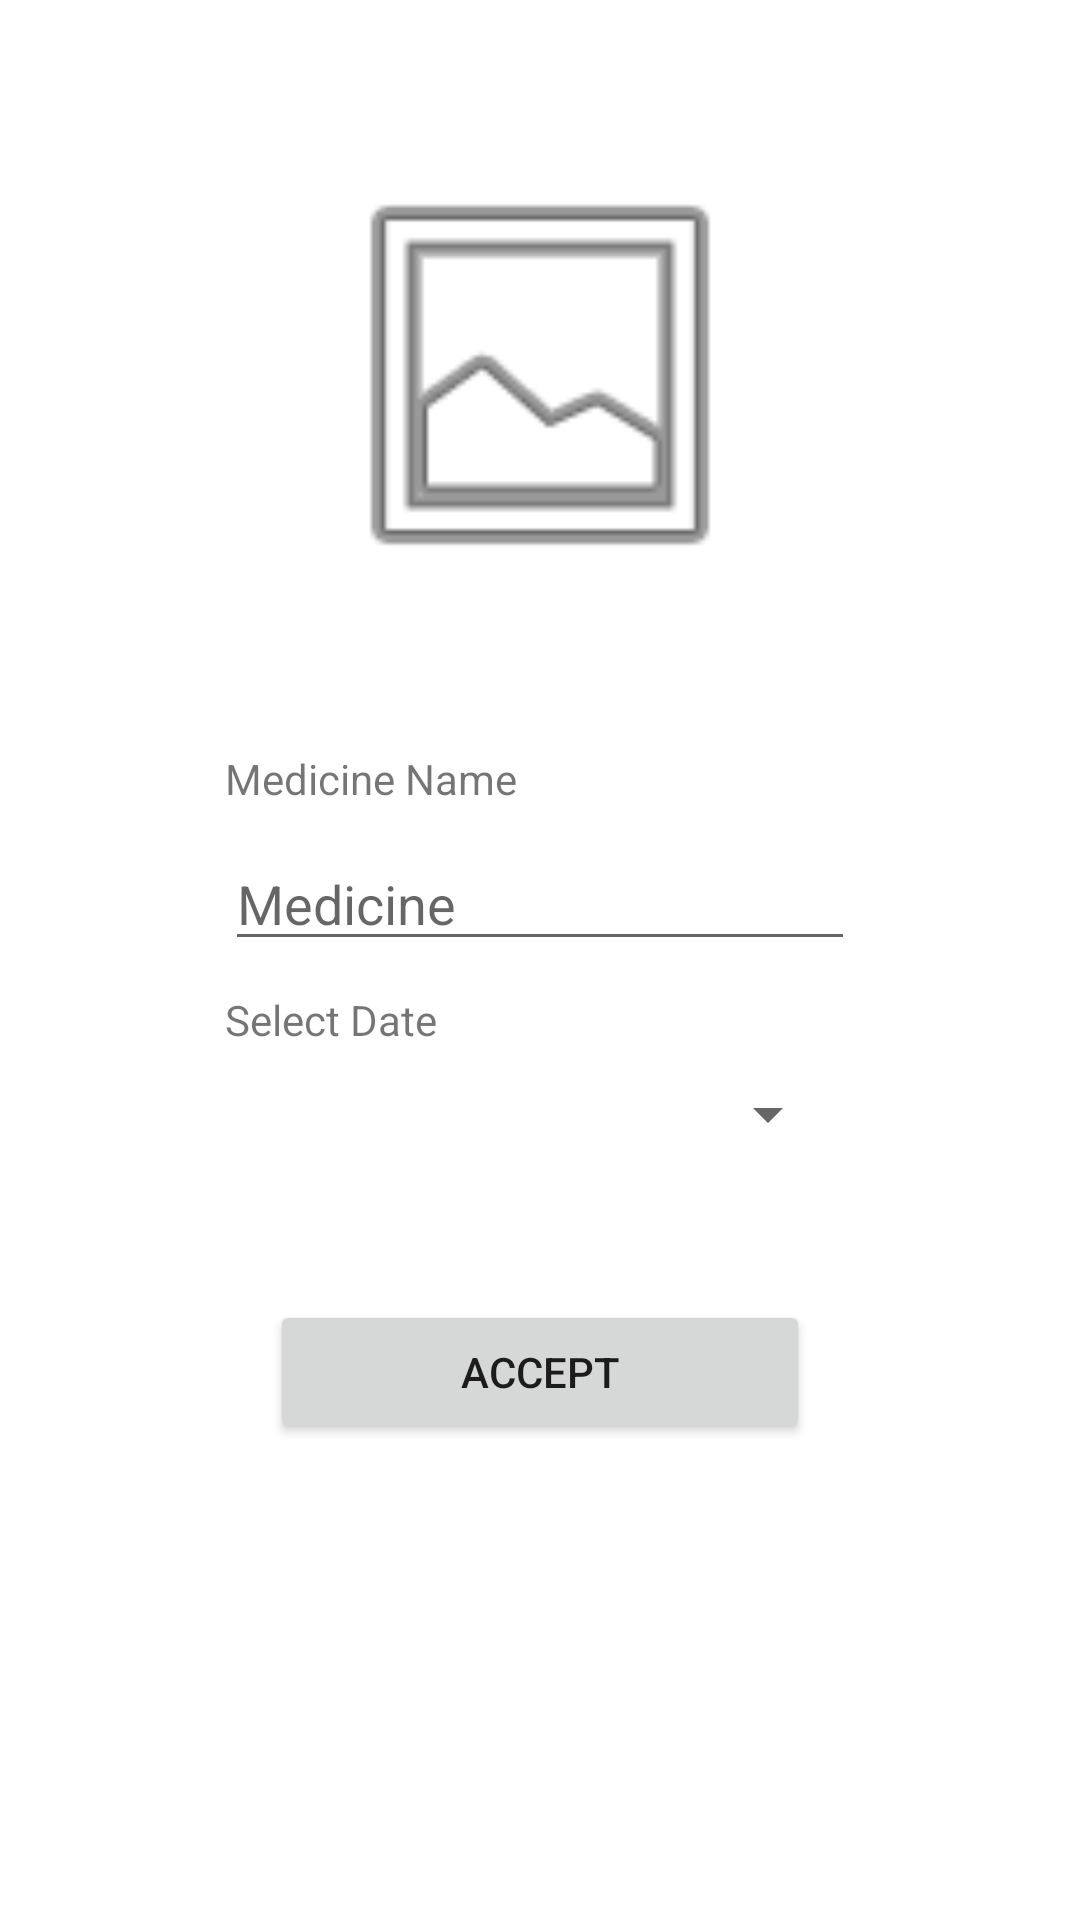

Screen size 1080*1920. Icon name, then its box in pixels as bbox=[x1, y1, x2, y2]:
gallery: bbox=[370, 205, 710, 545]
